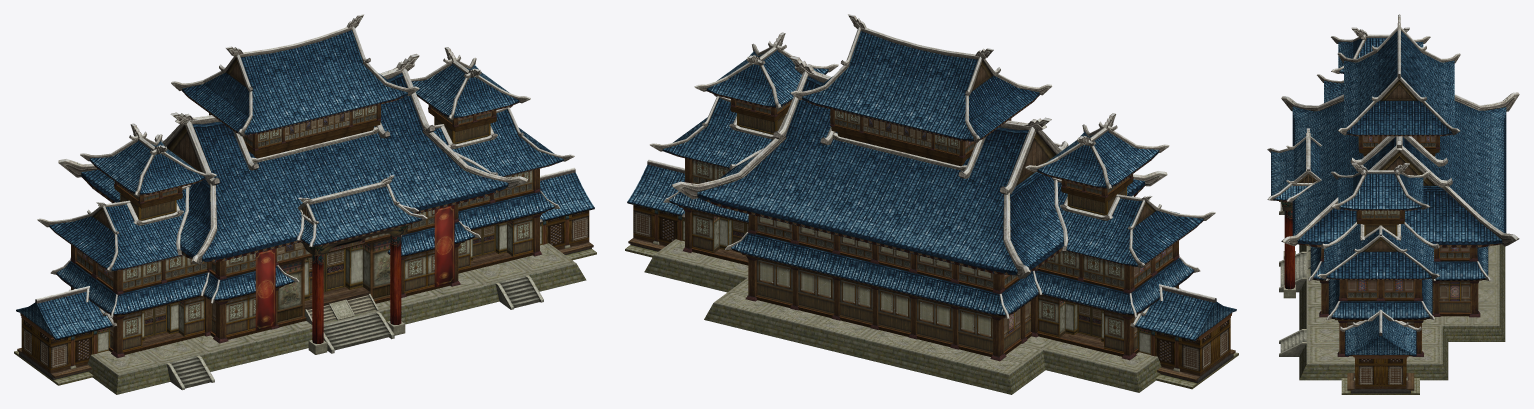
Rendered from secret_house_01.glb.
3 renders of one model, left to right at view 1: azimuth 30°, elevation 25°; view 2: azimuth 150°, elevation 25°; view 3: azimuth 270°, elevation 25°, orthographic. The views are drawn at different scales.
Parts seen in each view (by area): view 1: secret_house_01; view 2: secret_house_01; view 3: secret_house_01.
Part boxes in pixels (left/top/right/bottom): secret_house_01: left=14, top=14, right=596, bottom=394; secret_house_01: left=625, top=14, right=1238, bottom=394; secret_house_01: left=1267, top=14, right=1519, bottom=394.
Size of the model in its own units: 90 by 42.38 by 41.3.
8 materials, 8 textured.
